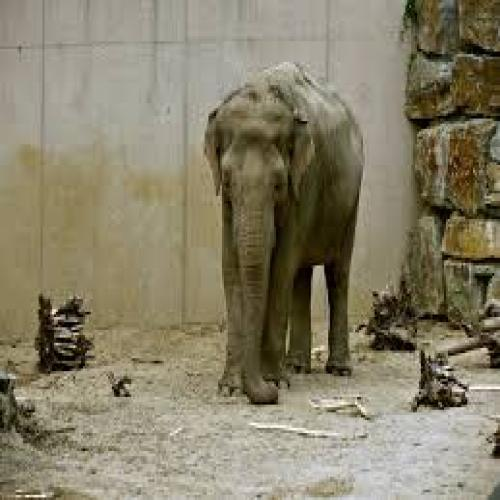asian_elephant-endangered: (203, 60, 362, 402)
